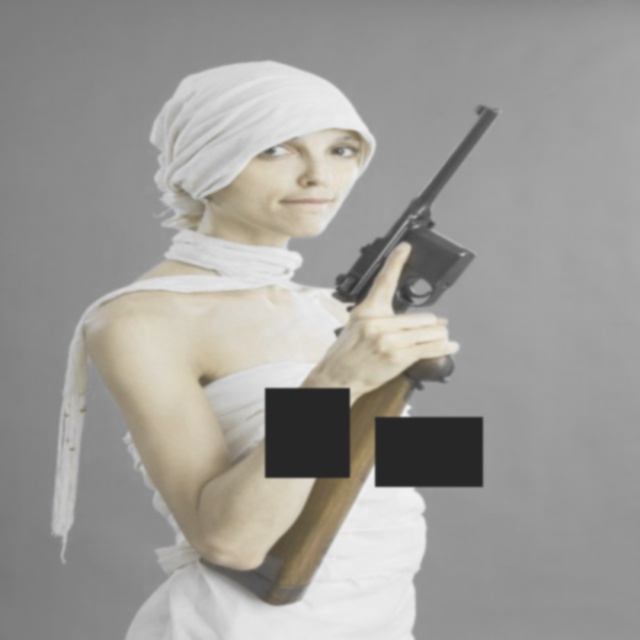gun: (192, 95, 523, 600)
